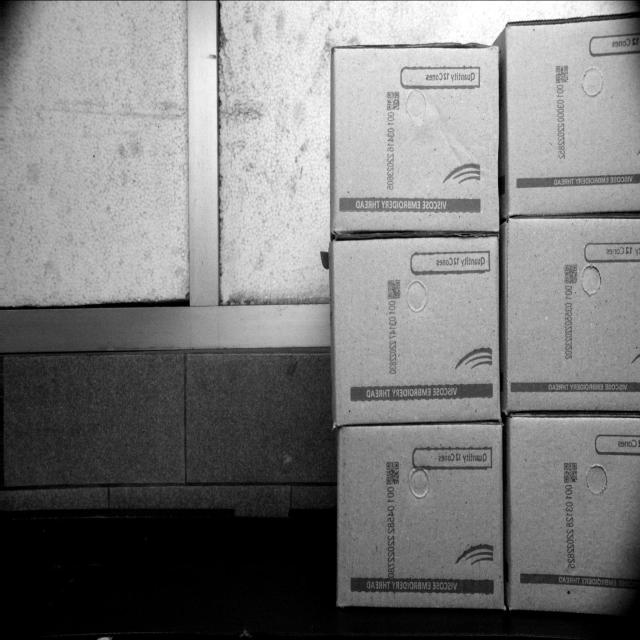cardboxes: (330, 38, 498, 235), (334, 235, 498, 427), (339, 424, 502, 607), (504, 219, 640, 412), (504, 25, 640, 209), (509, 422, 640, 609), (251, 569, 262, 570)
